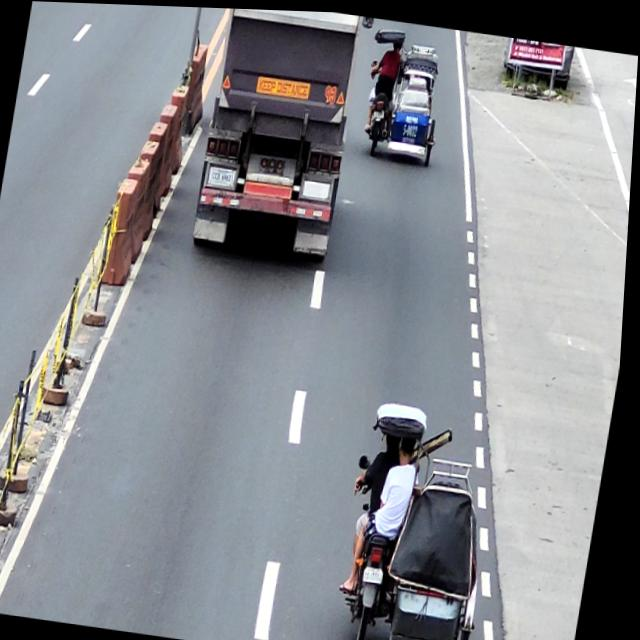License-Plate: (368, 562, 391, 583), (210, 167, 235, 185), (374, 107, 386, 117)
Tricycle: (335, 397, 511, 640), (357, 24, 452, 165)
Truck: (190, 6, 373, 265)
